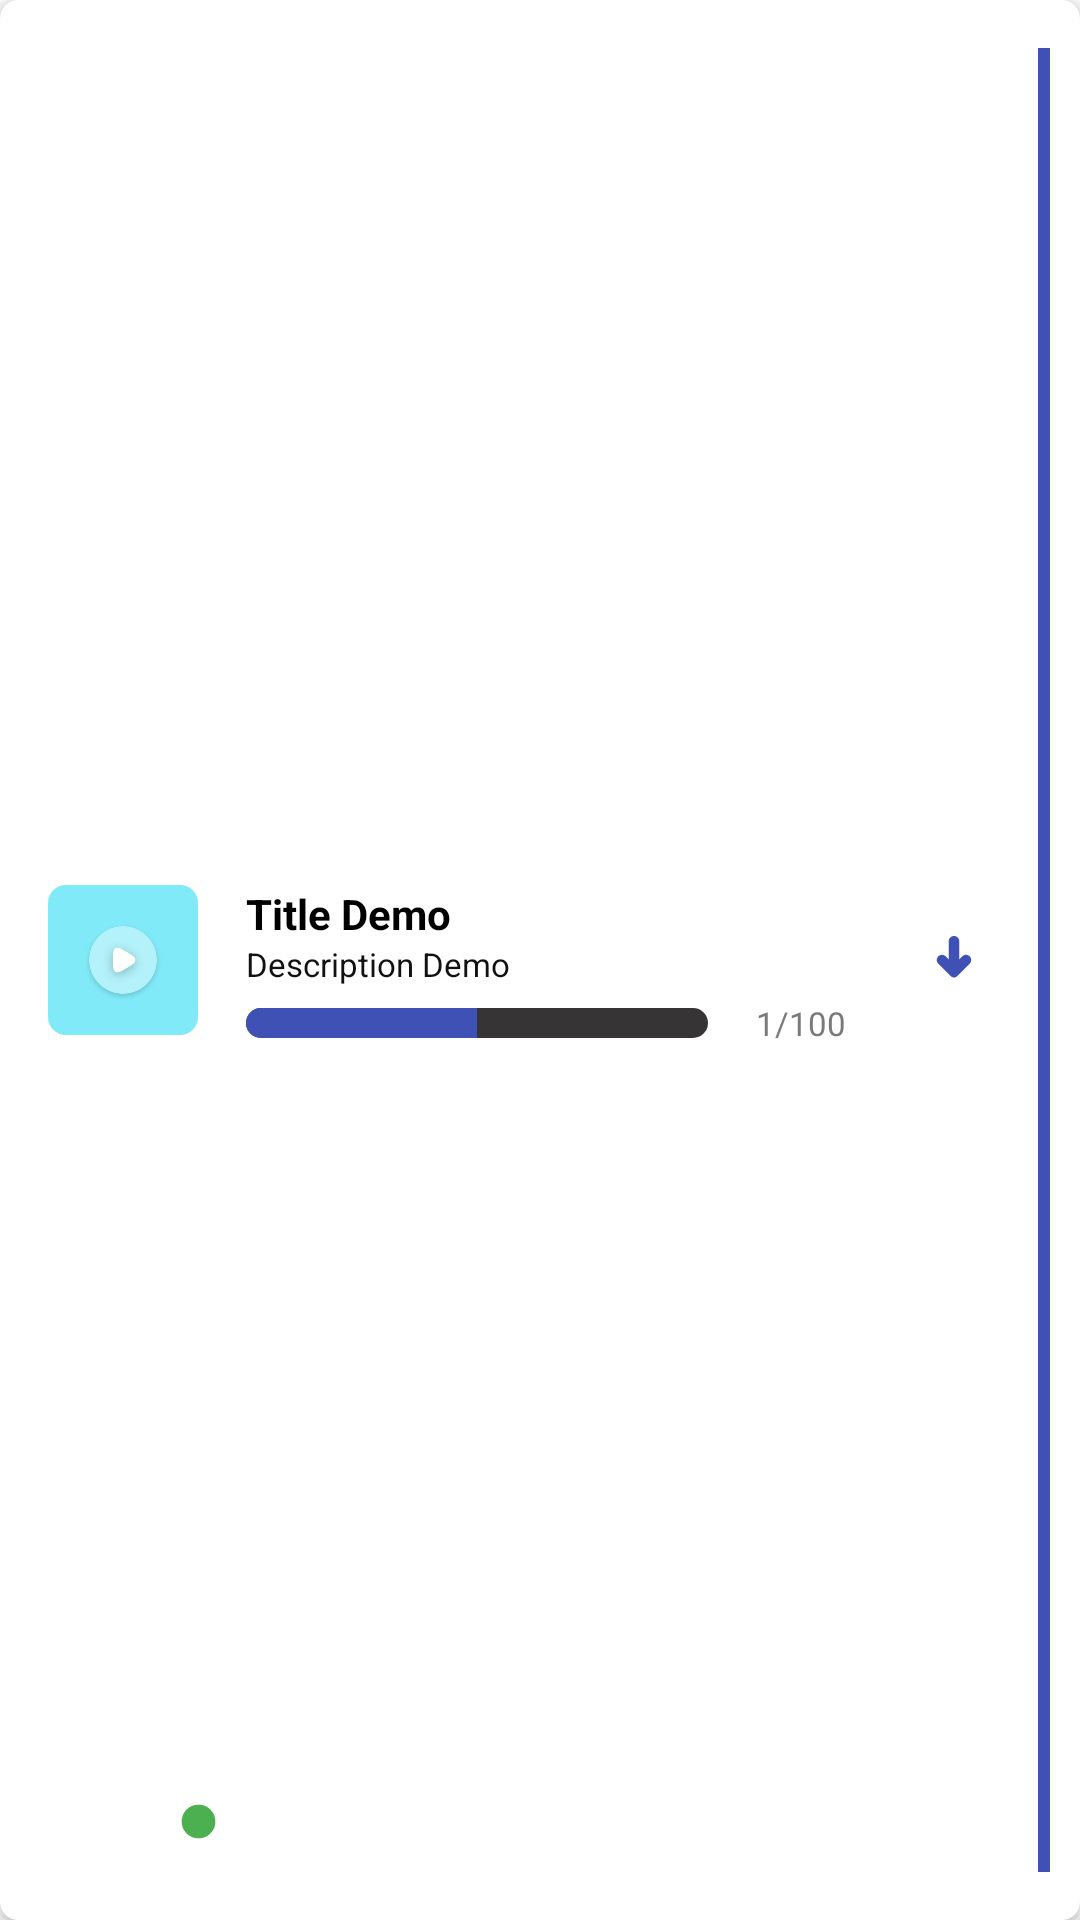

Point at icon controls on the screen. Image size 1080w x 1920h, points as (x=x, y=y).
download: (x=953, y=957)
play: (x=123, y=960)
